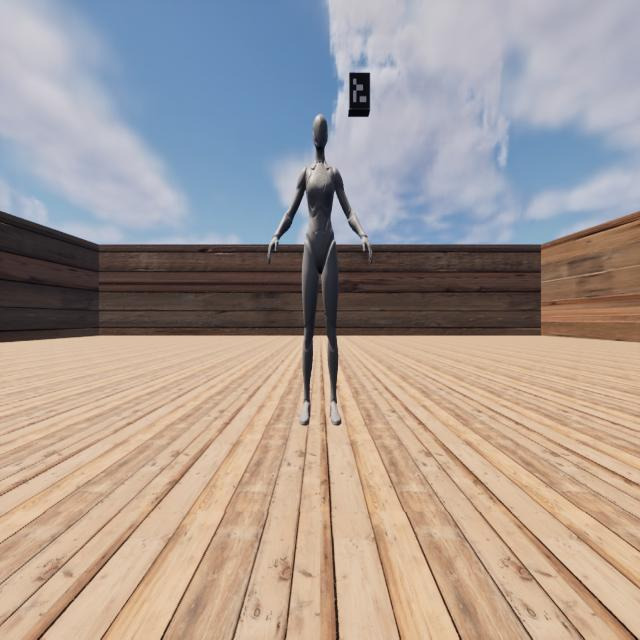aruco: (350, 74, 370, 110)
hip: (304, 241, 336, 251)
